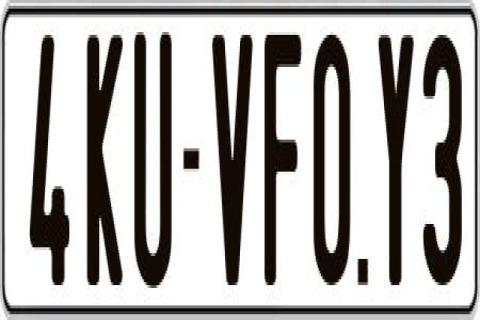0: (310, 35, 354, 299), (422, 29, 465, 282), (27, 35, 68, 294)
F: (264, 35, 308, 303)
K: (85, 26, 125, 291)
U: (132, 29, 170, 285)
V: (210, 35, 250, 288)
Y: (378, 32, 418, 294)
